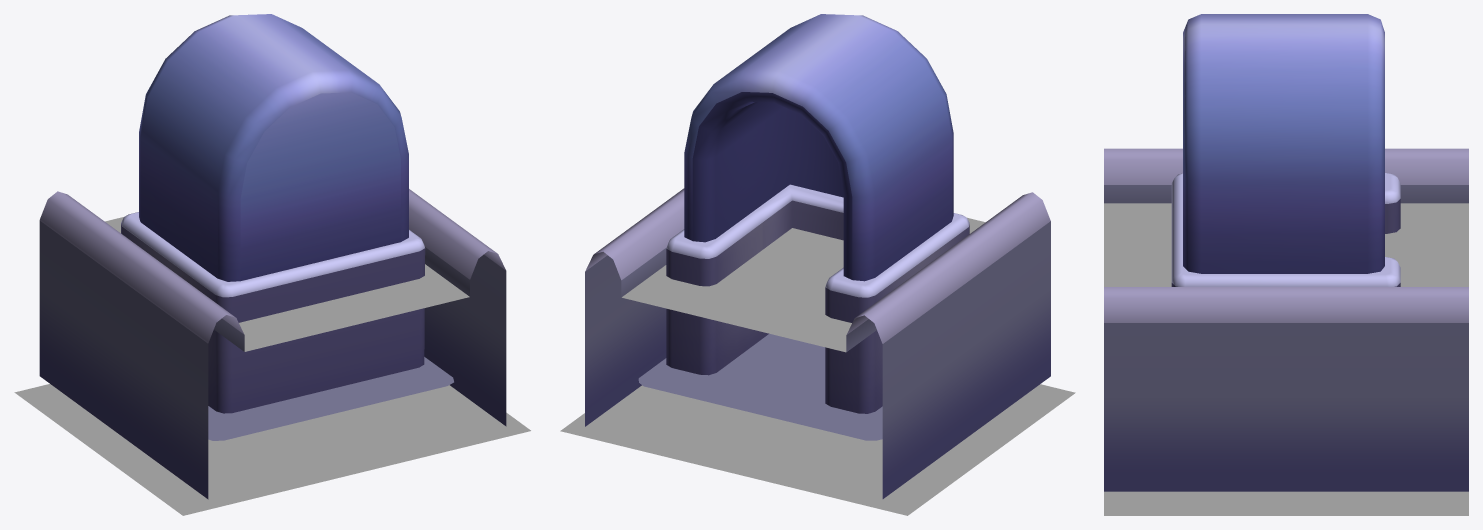
The model's file is Conveyor.fbx.
The picture shows the model from 3 angles, left to right: view 1: azimuth 30°, elevation 25°; view 2: azimuth 150°, elevation 25°; view 3: azimuth 270°, elevation 25°; orthographic projection. The views are drawn at different scales.
Visible parts, largest first — view 1: Conveyor_End, Conveyor_Up, Conveyor_Up_Shadow, Conveyor_Up_Road, Conveyor_End_Shadow; view 2: Conveyor_End, Conveyor_Up, Conveyor_Up_Shadow, Conveyor_Up_Road, Conveyor_End_Shadow; view 3: Conveyor_Up, Conveyor_End, Conveyor_Up_Road, Conveyor_Up_Shadow.
Boxes of the visible parts, box(x1,y1,x2,y2) form: Conveyor_End: box(121, 14, 425, 413); Conveyor_Up: box(39, 189, 506, 499); Conveyor_Up_Shadow: box(14, 384, 530, 515); Conveyor_Up_Road: box(105, 217, 469, 351); Conveyor_End_Shadow: box(208, 357, 453, 440); Conveyor_End: box(666, 14, 969, 413); Conveyor_Up: box(585, 188, 1050, 498); Conveyor_Up_Shadow: box(560, 384, 1075, 515); Conveyor_Up_Road: box(622, 217, 985, 352); Conveyor_End_Shadow: box(638, 333, 882, 440); Conveyor_Up: box(1104, 148, 1468, 491); Conveyor_End: box(1171, 14, 1400, 286); Conveyor_Up_Road: box(1104, 203, 1468, 286); Conveyor_Up_Shadow: box(1104, 491, 1468, 515).
Size of the model in its own units: 239 by 241 by 200.
